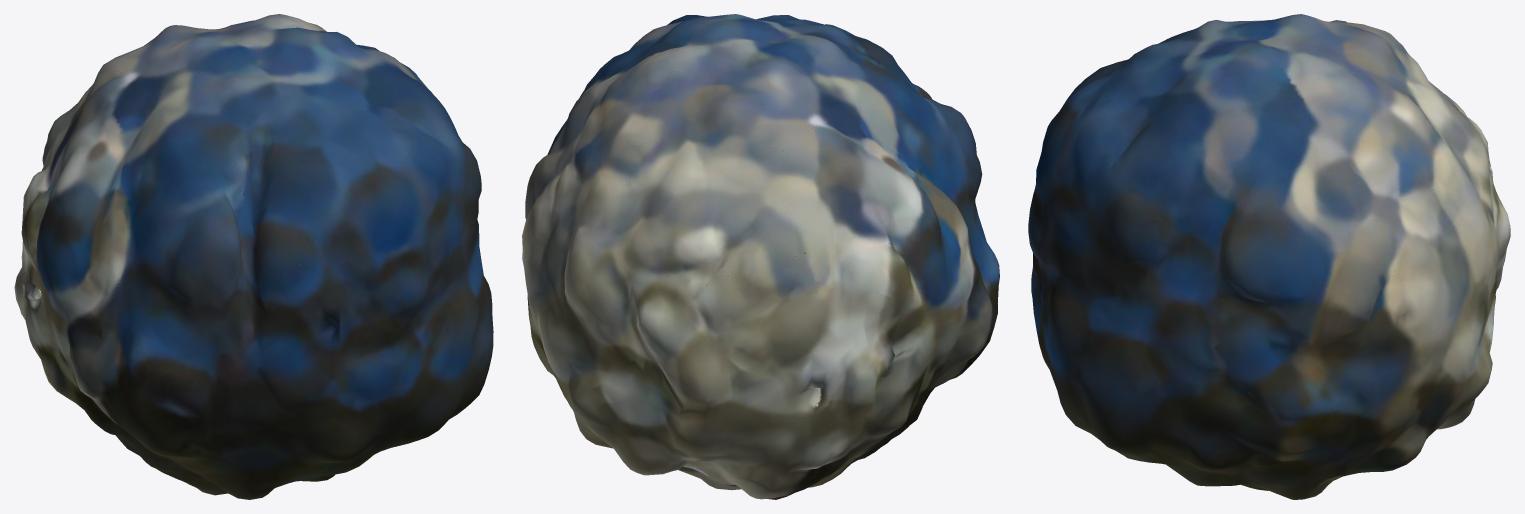
File: asteroid.fbx
3 views of the same model, side by side, from view 1: azimuth 30°, elevation 25°; view 2: azimuth 150°, elevation 25°; view 3: azimuth 270°, elevation 25° (orthographic). The views are drawn at different scales.
Visible parts, largest first — view 1: Mesh1; view 2: Mesh1; view 3: Mesh1.
Boxes of the visible parts, x1,y1,x2,y2 form: Mesh1: (14, 14, 493, 499); Mesh1: (522, 14, 999, 499); Mesh1: (1028, 14, 1510, 499).
Bounding box in the file's own units: 115 × 120 × 117.
Materials: 1 (1 with a texture image).
